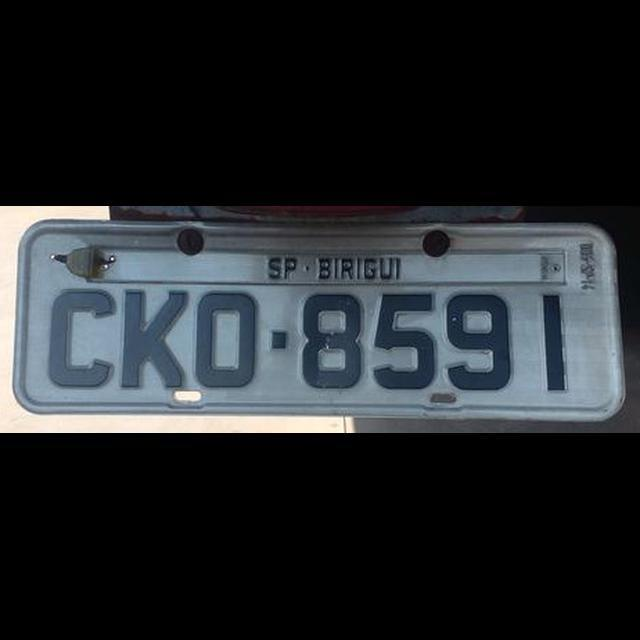Caractere: (44, 285, 120, 391), (118, 286, 194, 392), (442, 288, 518, 392), (371, 288, 441, 392), (192, 286, 262, 389), (297, 288, 365, 392), (540, 291, 568, 393)
Placa: (13, 216, 627, 424)
